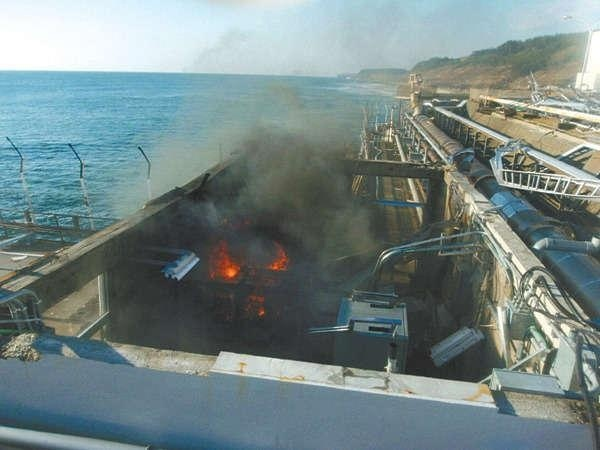fire: (208, 238, 292, 319)
